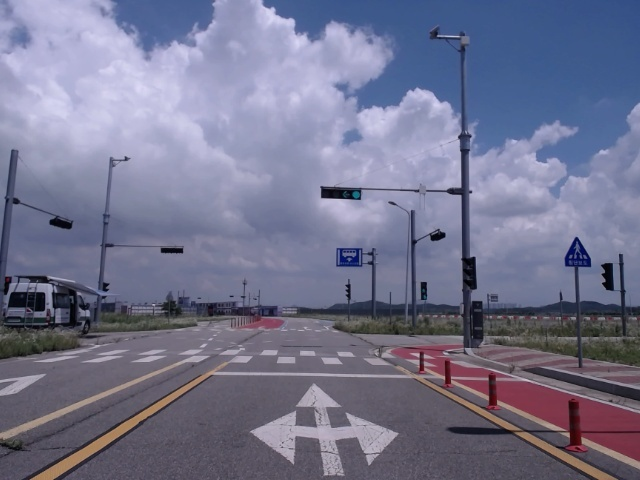all_green_4: (318, 187, 365, 202)
